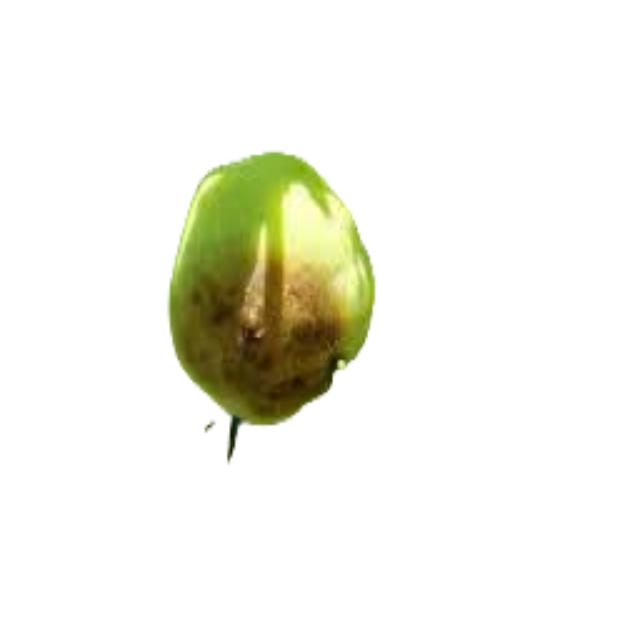defect: (164, 149, 376, 465)
